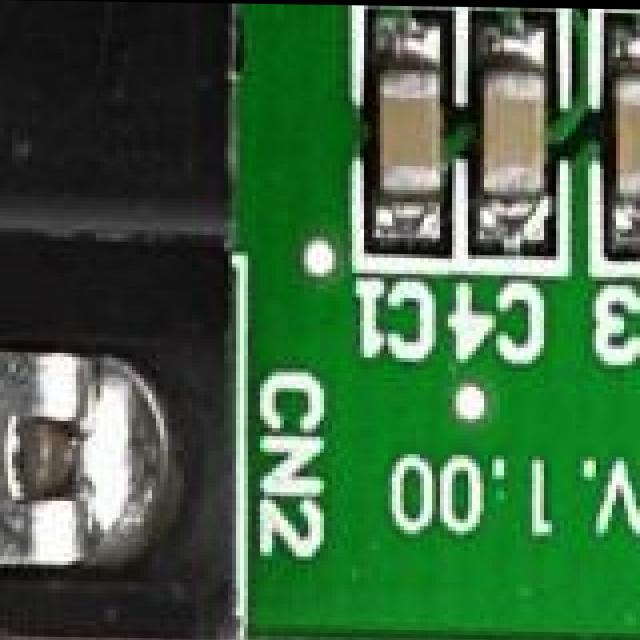capacitor: (478, 50, 552, 226), (374, 50, 444, 221), (608, 51, 640, 235)
connector: (0, 0, 232, 639)
